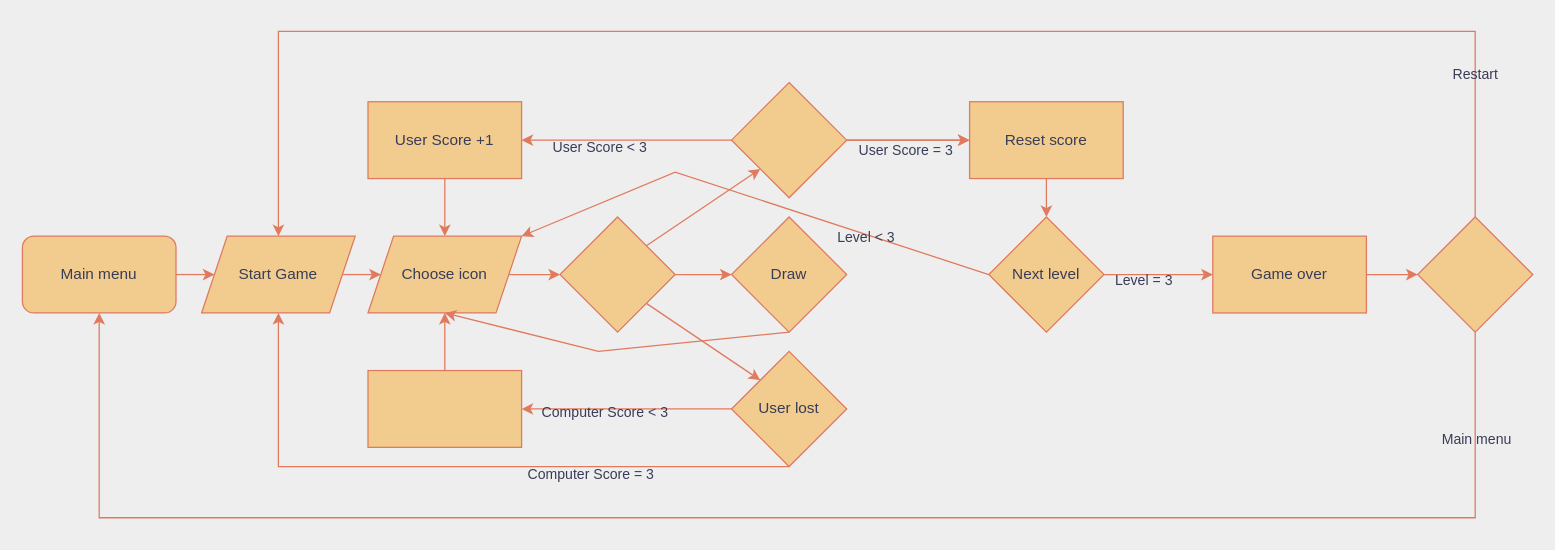
The diagram is 1555 pixels wide and 550 high, and some of its shapes have lost their labels. The shapes that lost their labels are listed below. From the top down, each one's centre as x and y in pixels, then its label:
[788,139]: User Won
[617,274]: Check result
[1474,274]: Options
[444,408]: Computer Score +1
